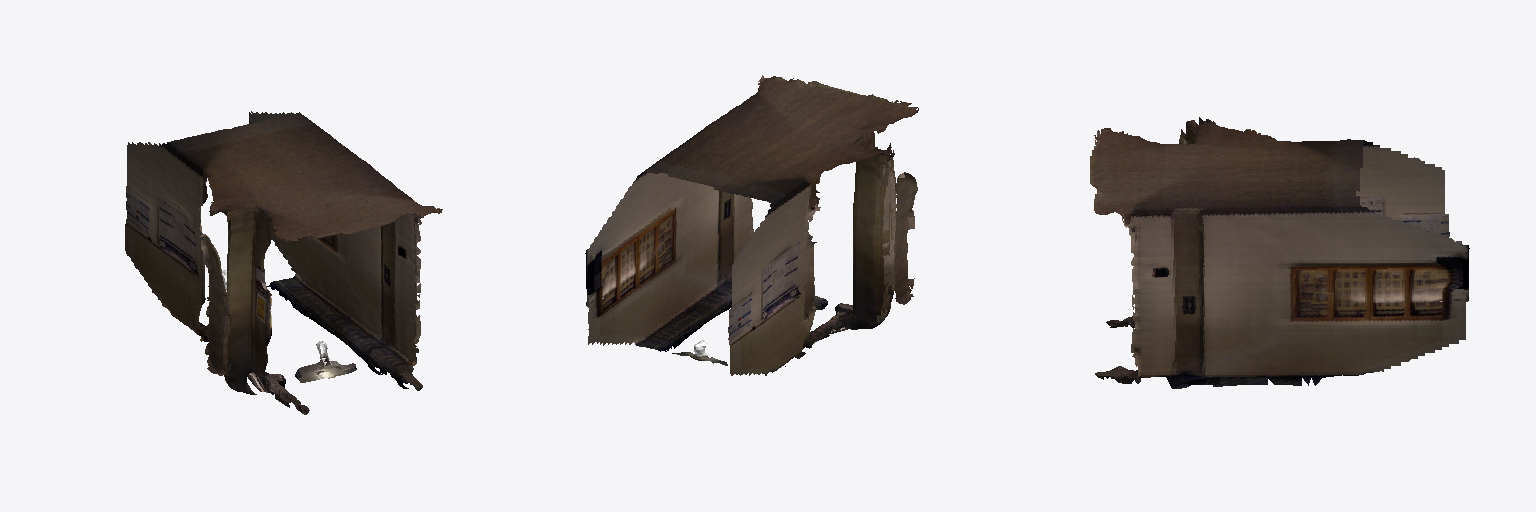
The picture shows the model from 3 angles: view 1: azimuth 30°, elevation 25°; view 2: azimuth 150°, elevation 25°; view 3: azimuth 270°, elevation 25°; orthographic projection.
Bounding box in the file's own units: 3.61 × 3.46 × 6.13.
Materials: 1 (1 with a texture image).